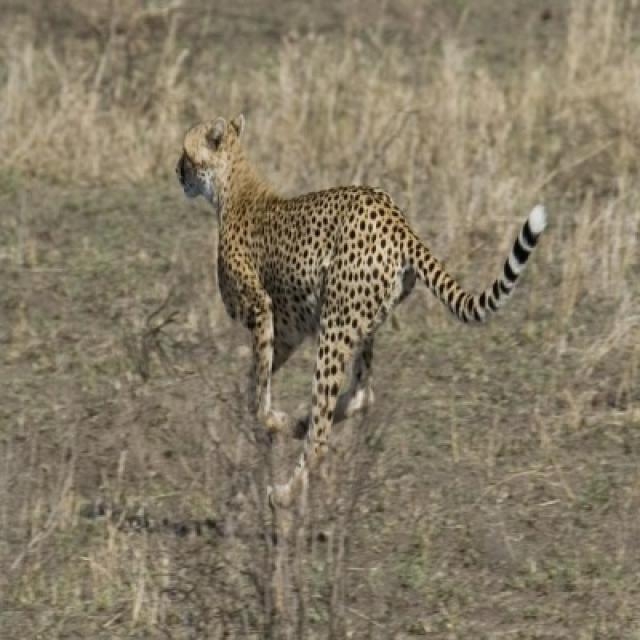Cheetah: (164, 117, 556, 500)
